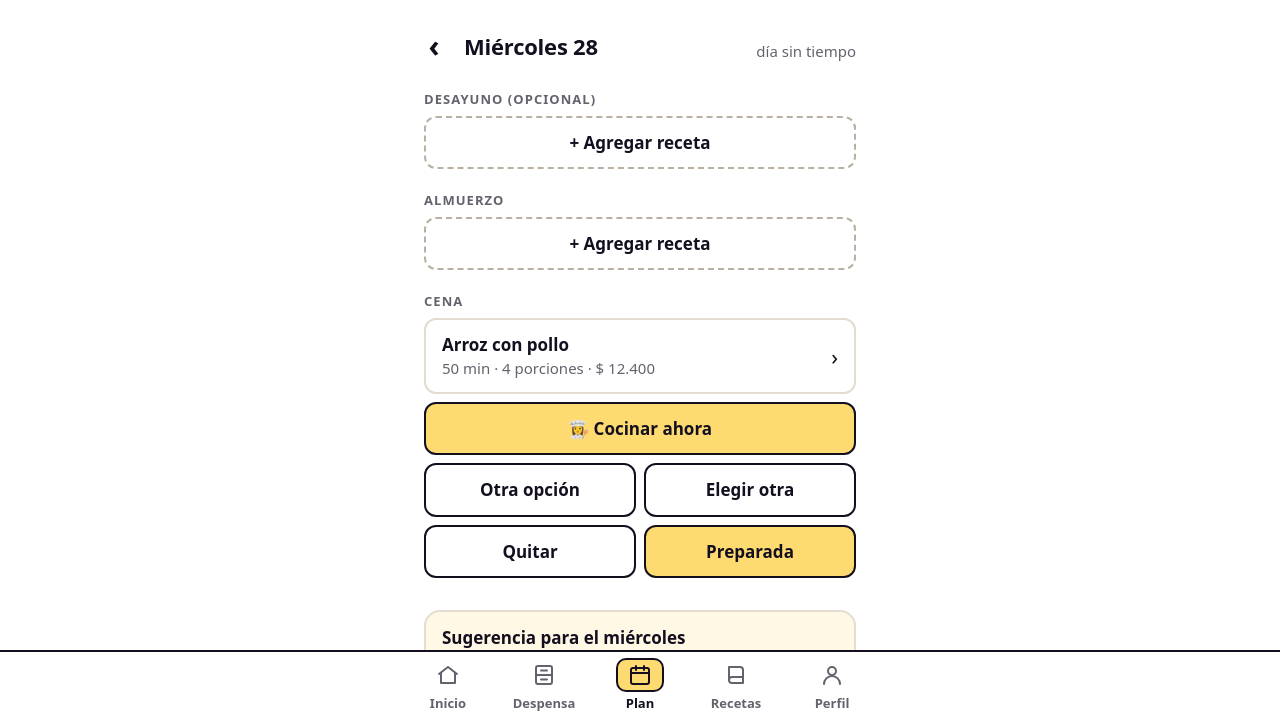
it: Plan semanal (pantallas 27 a 33) › "Otra opción" cambia la receta sin repetir las descartadas y se puede deshacer
Click the button "Otra opción" at (530, 490), box [424,463,636,517]
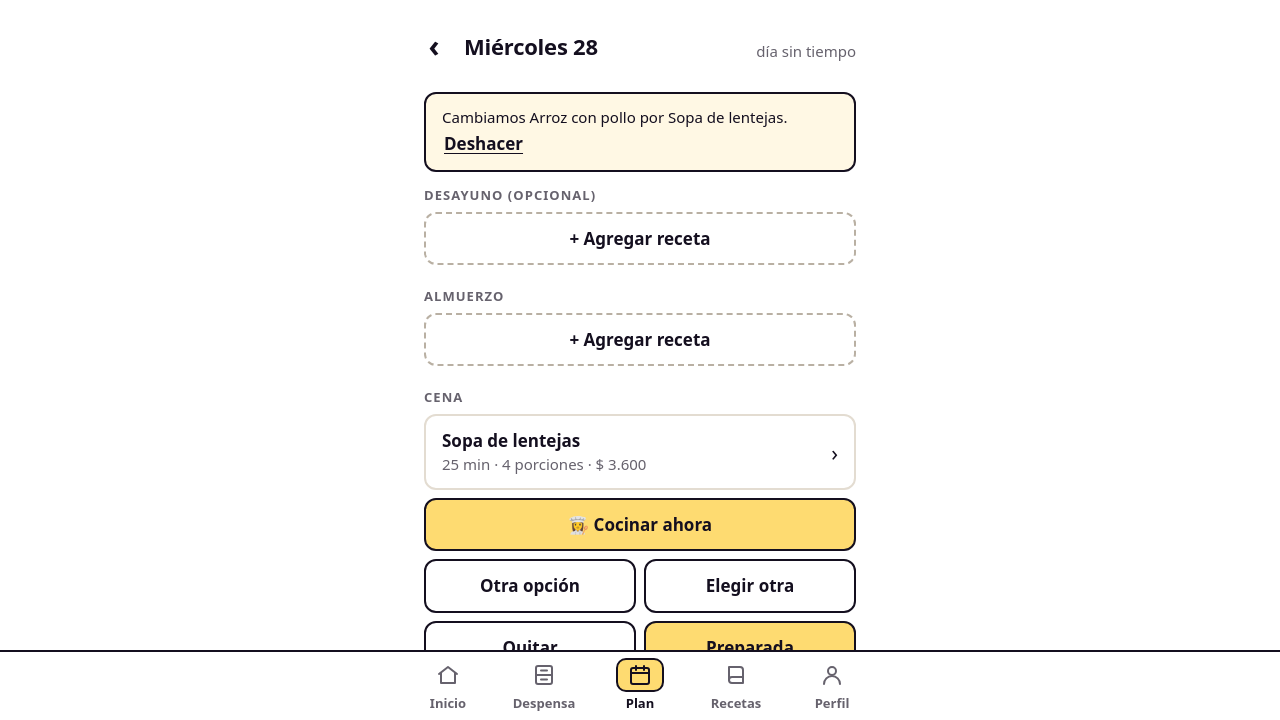
Check: the text "Cambiamos Arroz con pollo por Sopa de lentejas." is shown, box [442,107,787,127]
Click the button "Otra opción" at (530, 586), box [424,559,636,613]
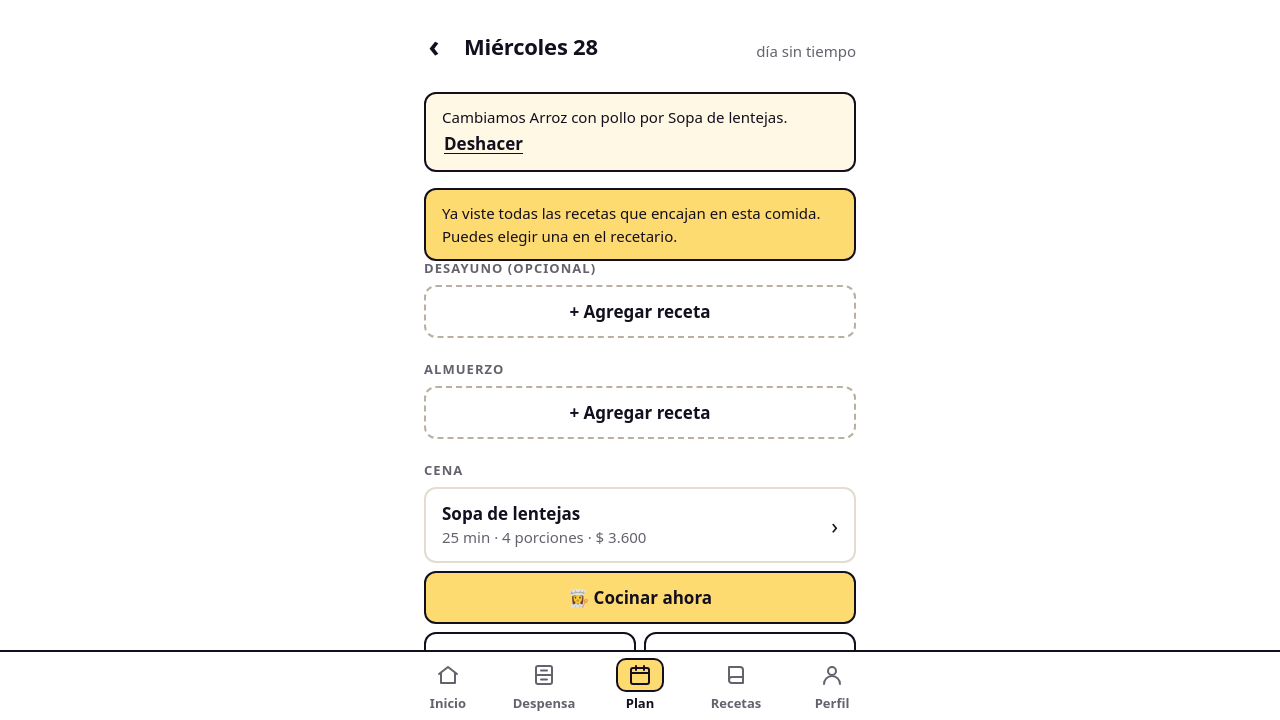
Check: the text "Ya viste todas las recetas que encajan" is shown, box [442,203,820,246]
Click the button "Deshacer" at (484, 143), box [442,128,525,158]
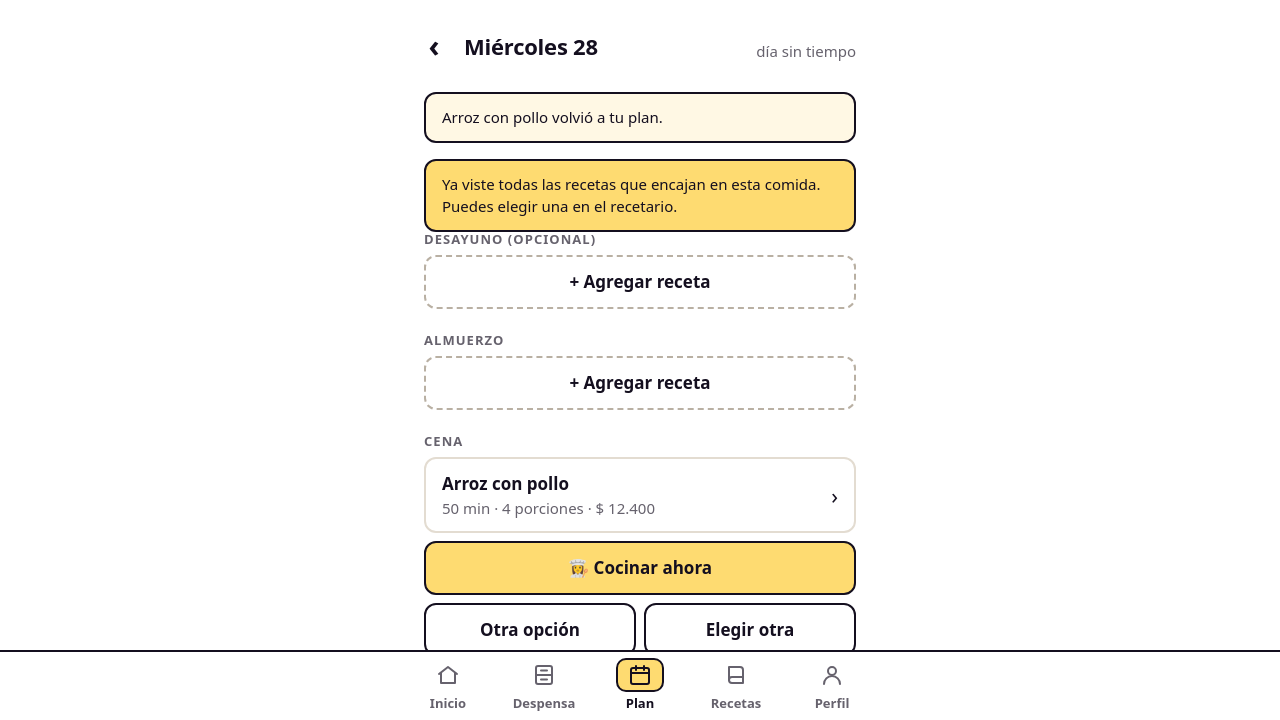
Check: the text "Arroz con pollo volvió a tu plan." is shown, box [424,92,856,142]
